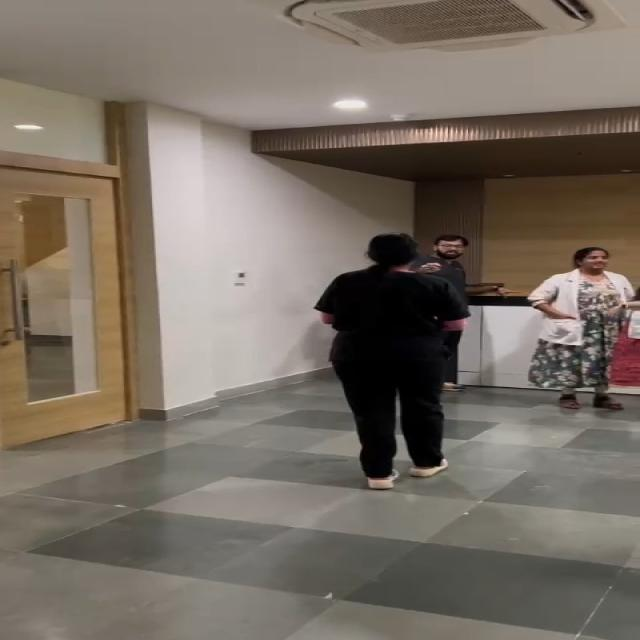door: (0, 144, 127, 442)
floor: (0, 445, 451, 640), (456, 400, 640, 639)
moving_object: (316, 233, 452, 482), (550, 231, 640, 407), (425, 212, 494, 364)
wall: (131, 103, 328, 386), (352, 119, 640, 232)
